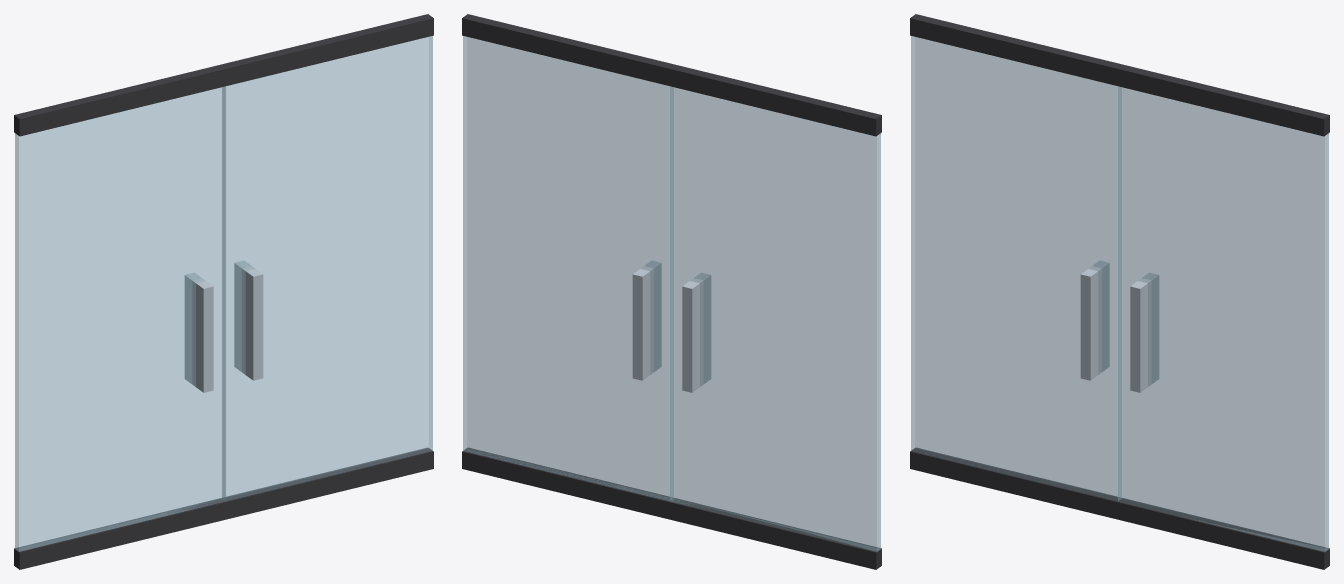
The model's file is entrance_doors.obj.
3 views of the same model, side by side, from view 1: azimuth 30°, elevation 25°; view 2: azimuth 150°, elevation 25°; view 3: azimuth 330°, elevation 25° (orthographic).
Visible parts, largest first — view 1: Entrance_Door_L, Entrance_Door_R; view 2: Entrance_Door_L, Entrance_Door_R; view 3: Entrance_Door_R, Entrance_Door_L.
Boxes of the visible parts, x1=… form: Entrance_Door_L: x1=14, y1=64, x2=226, y2=569; Entrance_Door_R: x1=221, y1=14, x2=433, y2=519; Entrance_Door_L: x1=669, y1=64, x2=881, y2=569; Entrance_Door_R: x1=462, y1=14, x2=674, y2=519; Entrance_Door_R: x1=1117, y1=64, x2=1329, y2=569; Entrance_Door_L: x1=910, y1=14, x2=1122, y2=519.
Size of the model in its own units: 2.5 by 2.6 by 0.2.
